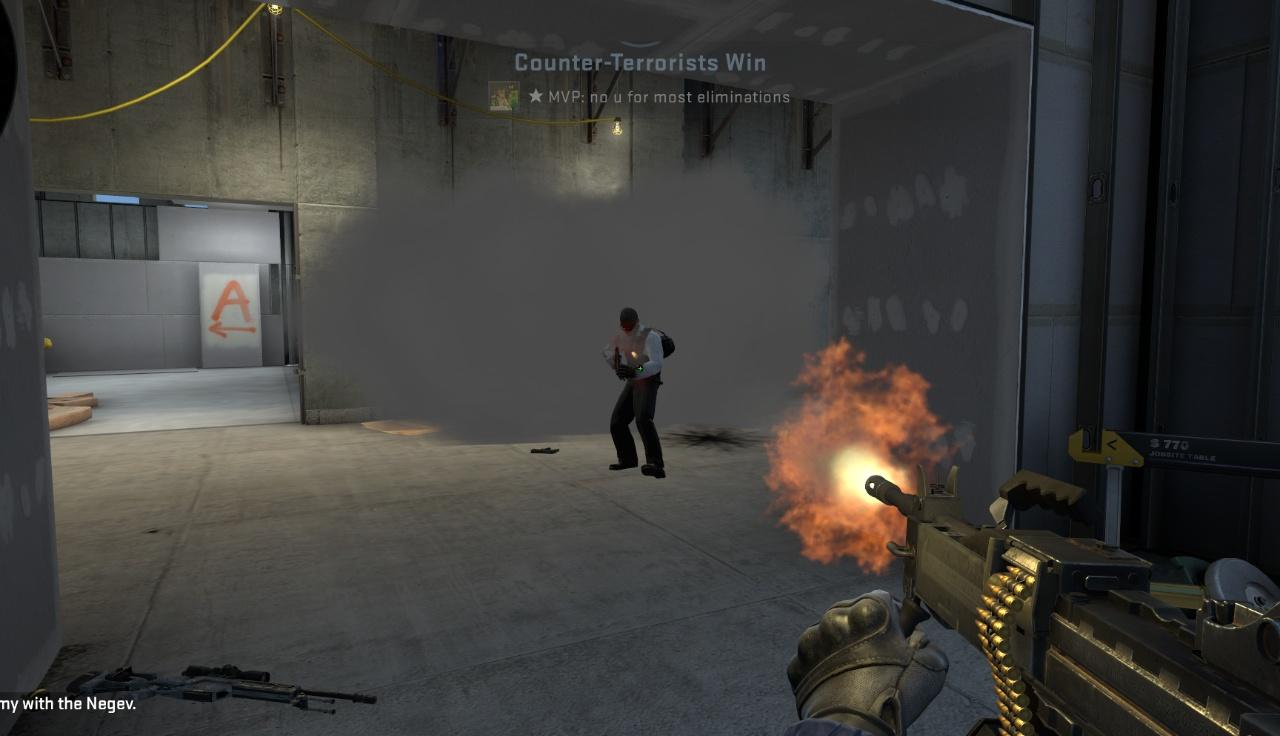rifle: (848, 442, 1280, 736)
tt: (604, 307, 669, 478)
tthead: (619, 308, 639, 334)
